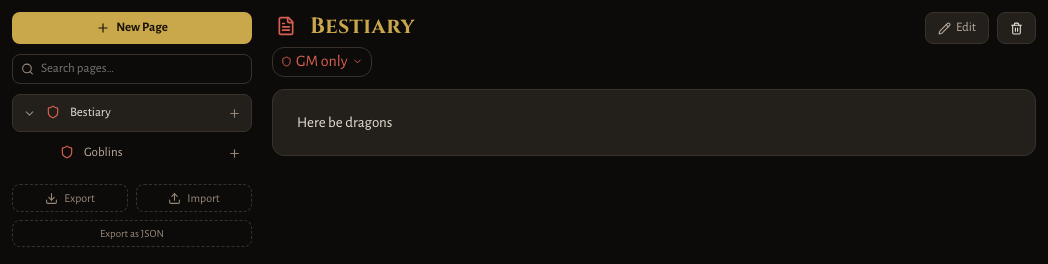
Test case: WikiView nested tree › renders children under their parent and collapses/expands them
The width and height of the screenshot is (1048, 264).
Expected: the button "Bestiary" is shown, [70,105,222,121]
Expected: the button "Goblins" is shown, [84,145,222,161]
Collapsing the parent hides its child.
Click the button named "Collapse" at (30, 113), box [23,106,36,120]
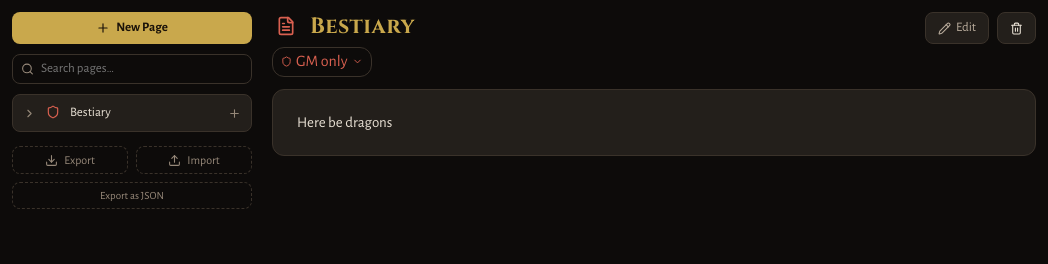
Expected: the button "Goblins" is gone
Expanding brings it back.
Click the button named "Expand" at (30, 113), box [23,106,36,120]
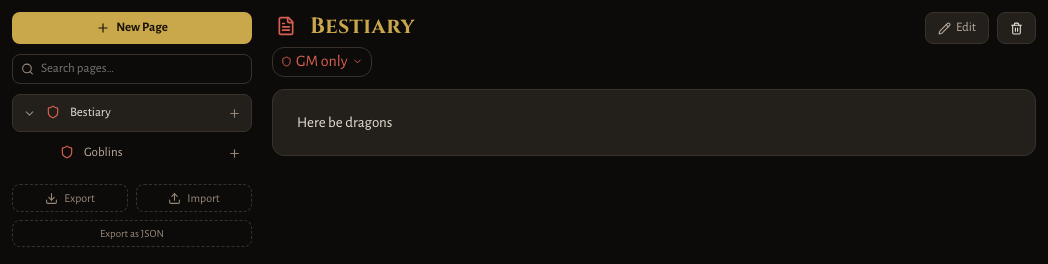
Expected: the button "Goblins" is shown, [84,145,222,161]
